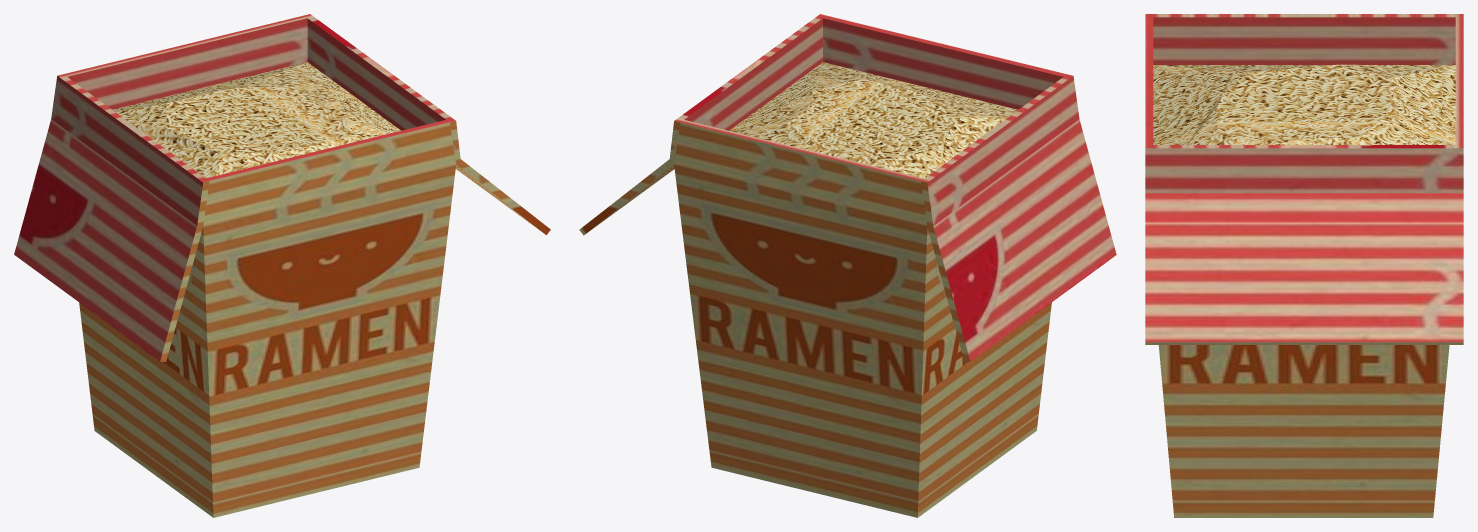
File: ramen_bento.fbx
3 views of the same model, side by side, from view 1: azimuth 30°, elevation 25°; view 2: azimuth 150°, elevation 25°; view 3: azimuth 270°, elevation 25° (orthographic). The views are drawn at different scales.
Visible parts, largest first — view 1: Model; view 2: Model; view 3: Model.
Boxes of the visible parts, left/top/right/bottom form: Model: left=14, top=14, right=550, bottom=517; Model: left=579, top=14, right=1116, bottom=517; Model: left=1145, top=14, right=1463, bottom=517.
Size of the model in its own units: 6.18 by 5.3 by 4.
3 materials, 3 textured.
